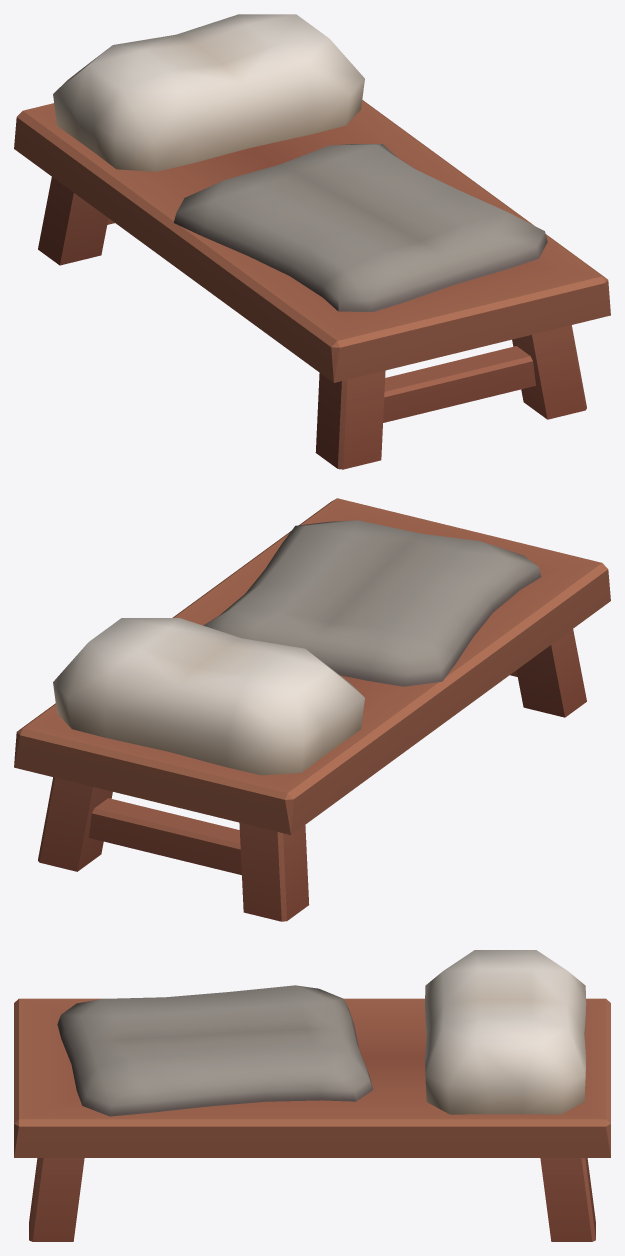
File: bed_frame.obj
3 renders of one model, top to bottom at view 1: azimuth 30°, elevation 25°; view 2: azimuth 150°, elevation 25°; view 3: azimuth 270°, elevation 25°, orthographic. The views are drawn at different scales.
Visible parts, largest first — view 1: bed_frame; view 2: bed_frame; view 3: bed_frame.
Boxes of the visible parts, bbox=[...] form: bed_frame: bbox=[14, 14, 610, 469]; bed_frame: bbox=[14, 498, 610, 921]; bed_frame: bbox=[14, 950, 610, 1241].
Size of the model in its own units: 1.5 by 1.06 by 3.
1 material, 1 textured.
